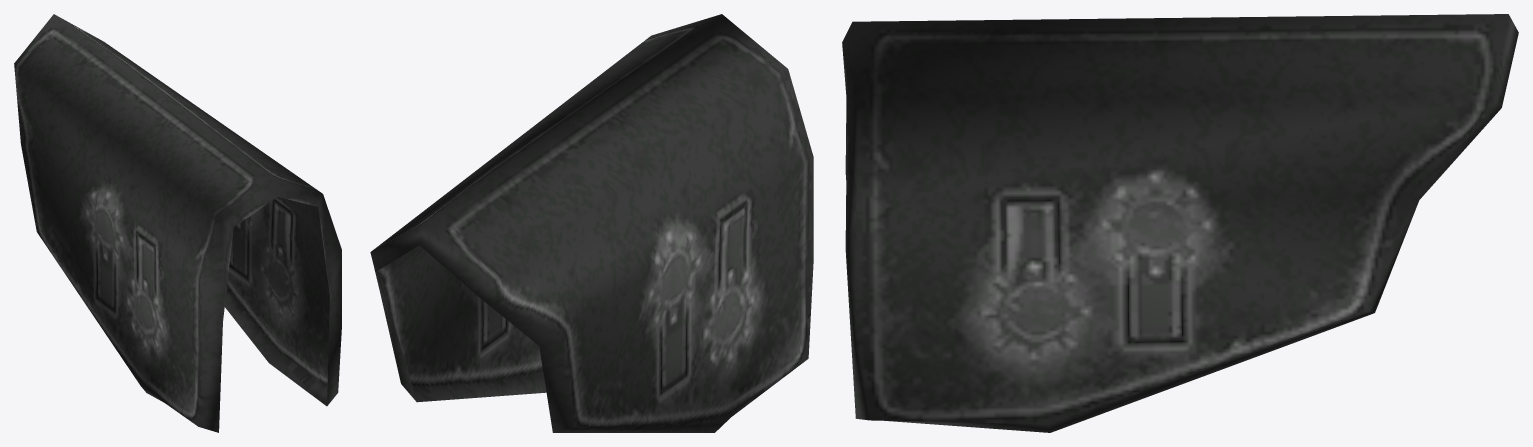
Rendered from Sniper_Rifle_jjq_tsb_01_lod_Carry_Handle_LOD_(000173).glb.
The picture shows the model from 3 angles, left to right: view 1: azimuth 30°, elevation 25°; view 2: azimuth 150°, elevation 25°; view 3: azimuth 270°, elevation 25°; orthographic projection. The views are drawn at different scales.
Parts seen in each view (by area): view 1: jjq_tsb_01_lod; view 2: jjq_tsb_01_lod; view 3: jjq_tsb_01_lod.
Part boxes in pixels (x1,y1,x2,y2): jjq_tsb_01_lod: [14, 14, 341, 432]; jjq_tsb_01_lod: [370, 14, 813, 432]; jjq_tsb_01_lod: [842, 14, 1518, 432].
Bounding box in the file's own units: 0.0572 × 0.0984 × 0.1611.
1 material, 1 textured.
